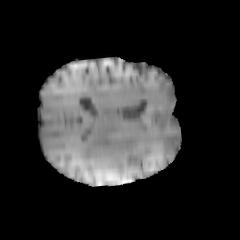glioma: (76, 126, 141, 176)
